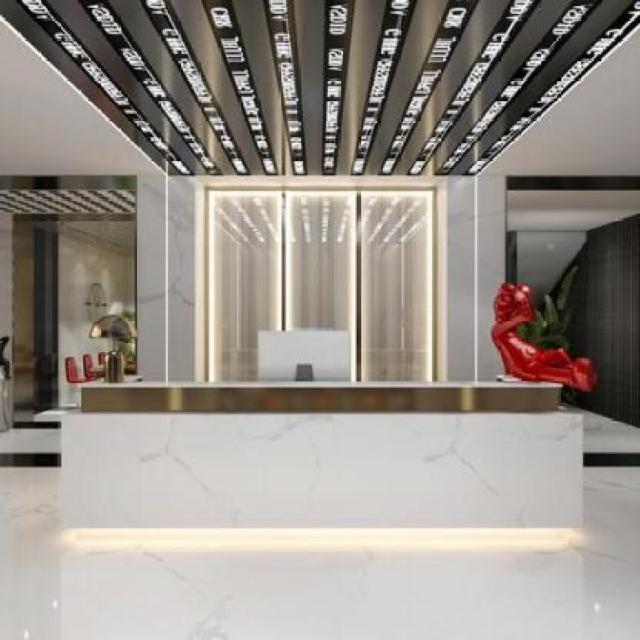frontdesk: (51, 371, 586, 557)
